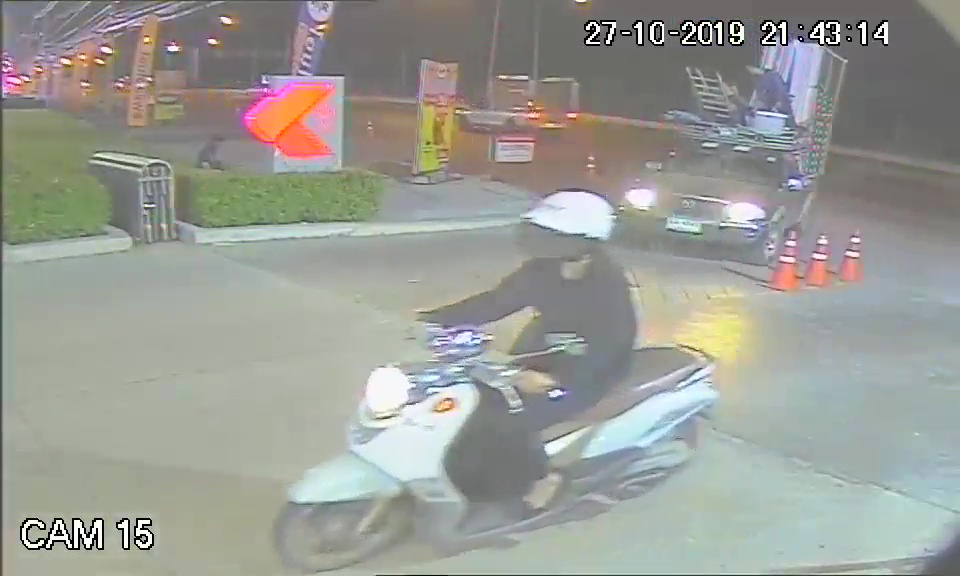motorcycle: (271, 325, 714, 571)
